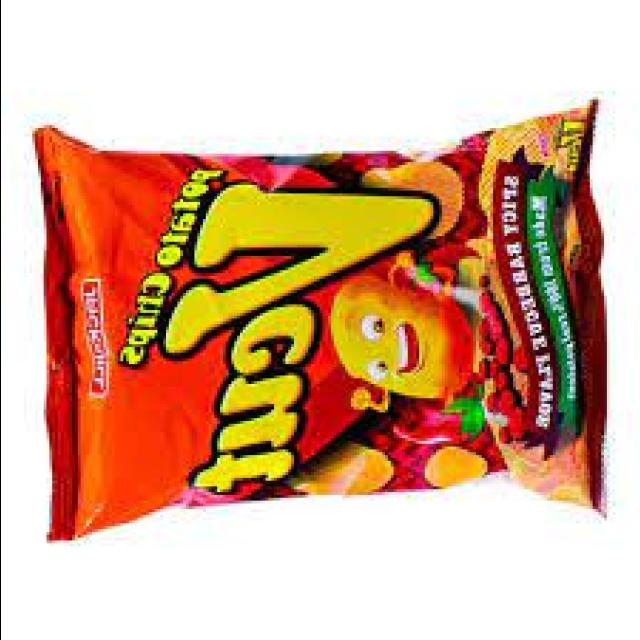junkfood wrapper: (35, 105, 603, 540)
